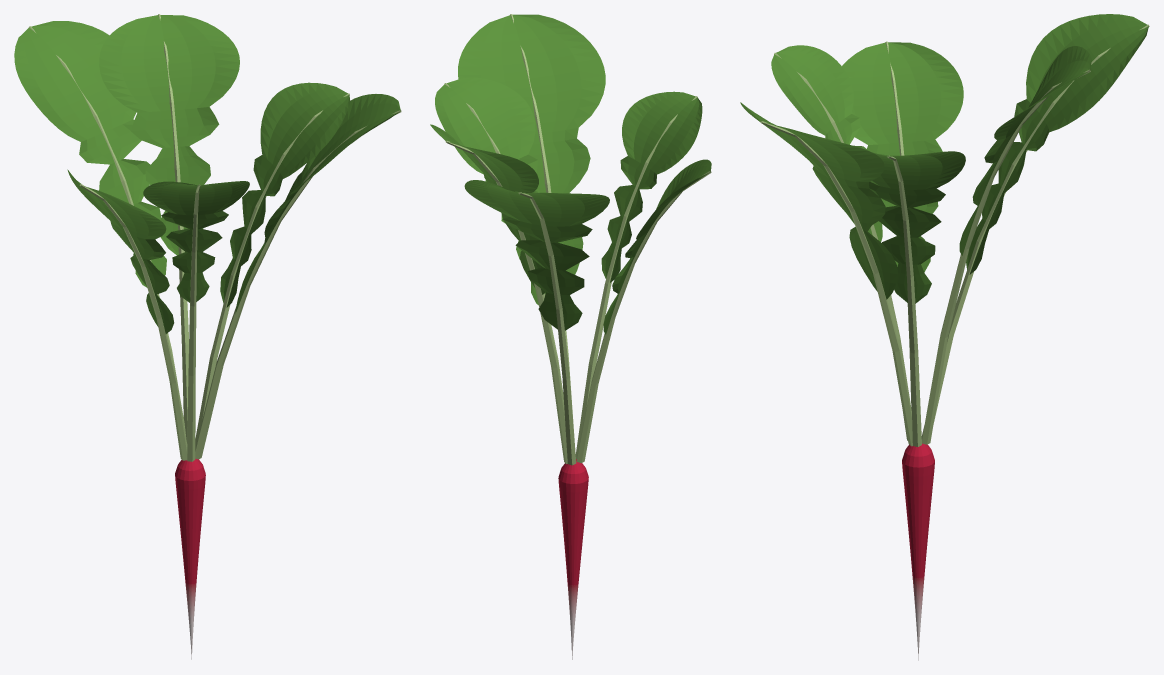
File: radish_harvest_v04.glb
The picture shows the model from 3 angles, left to right: view 1: azimuth 30°, elevation 25°; view 2: azimuth 150°, elevation 25°; view 3: azimuth 270°, elevation 25°; orthographic projection. The views are drawn at different scales.
Visible parts, largest first — view 1: plant; view 2: plant; view 3: plant.
Boxes of the visible parts, box(x1,y1,x2,y2) form: plant: box(14, 14, 401, 659); plant: box(430, 14, 711, 659); plant: box(740, 14, 1149, 660).
Size of the model in its own units: 0.2449 by 0.4891 by 0.2945.
Materials: 1 (1 with a texture image).
